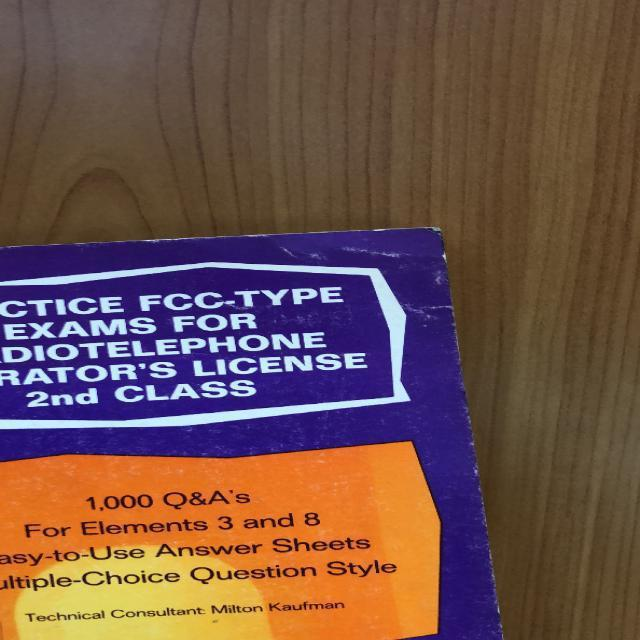Wornout: (136, 229, 275, 250), (303, 223, 447, 242), (0, 238, 127, 256), (448, 296, 470, 394), (468, 460, 492, 541), (483, 542, 503, 615), (460, 405, 480, 447), (434, 246, 454, 270)
